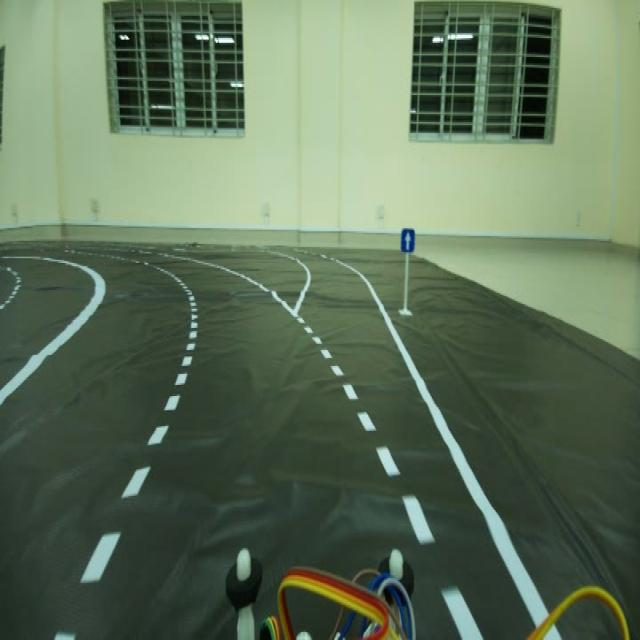onewayroad: (396, 224, 418, 262)
